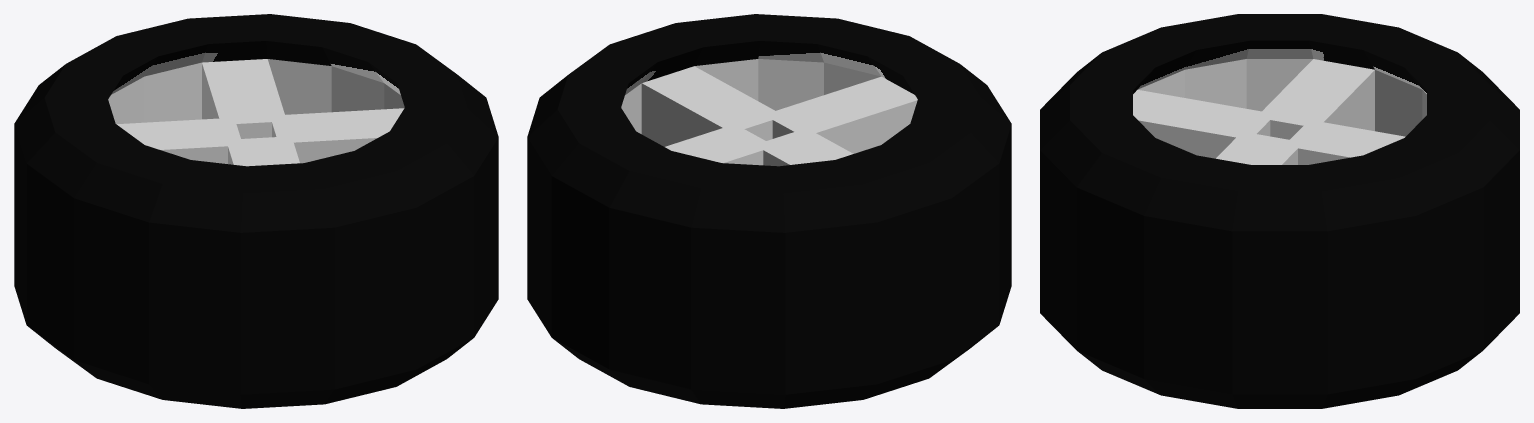
File: tire.fbx
3 views of the same model, side by side, from view 1: azimuth 30°, elevation 25°; view 2: azimuth 150°, elevation 25°; view 3: azimuth 270°, elevation 25° (orthographic).
Parts seen in each view (by area): view 1: cylinder; view 2: cylinder; view 3: cylinder.
Part boxes in pixels (box(x1,y1,x2,y2)): cylinder: box(14, 14, 498, 408); cylinder: box(527, 14, 1011, 408); cylinder: box(1040, 14, 1519, 408).
Bounding box in the file's own units: 100 × 50 × 100.
1 material, 1 textured.
